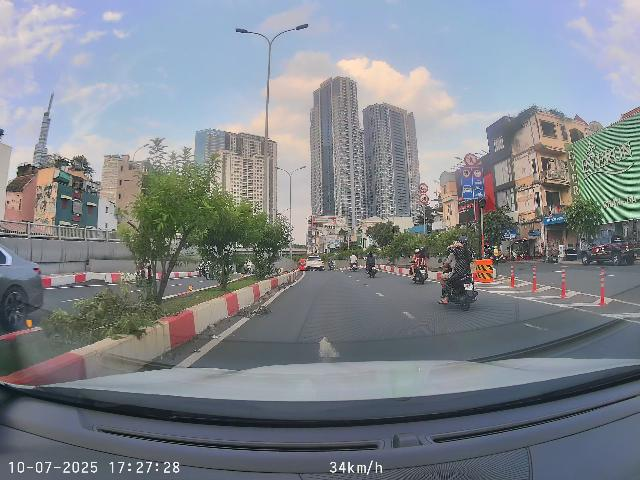127-toc-do-toi-da-50: (419, 194, 429, 204), (462, 168, 471, 178), (473, 169, 482, 178)
